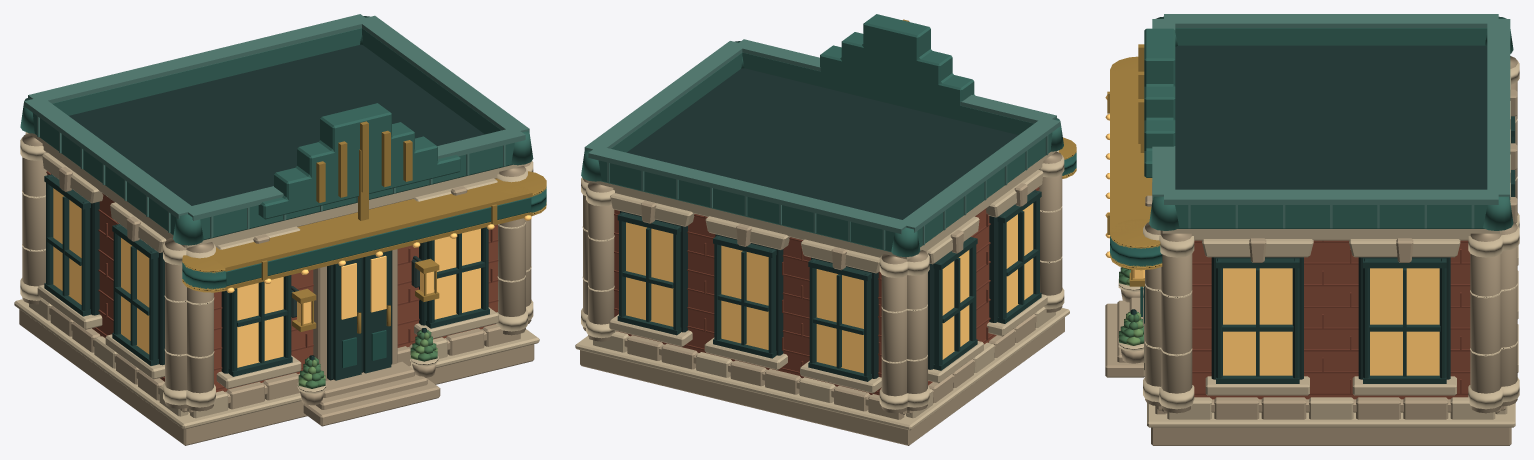
3 renders of one model, left to right at view 1: azimuth 30°, elevation 25°; view 2: azimuth 150°, elevation 25°; view 3: azimuth 270°, elevation 25°, orthographic. The views are drawn at different scales.
Visible parts, largest first — view 1: expansion_hotel_1_geometry; view 2: expansion_hotel_1_geometry; view 3: expansion_hotel_1_geometry.
Part boxes in pixels (left/top/right/bottom): expansion_hotel_1_geometry: left=14, top=14, right=546, bottom=445; expansion_hotel_1_geometry: left=575, top=14, right=1076, bottom=445; expansion_hotel_1_geometry: left=1105, top=14, right=1519, bottom=445.
Bounding box in the file's own units: 0.99 × 0.7413 × 0.8963.
